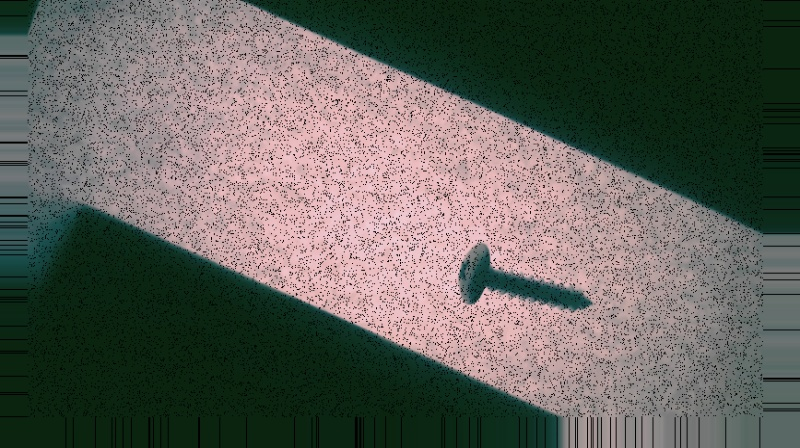S003: (454, 238, 596, 315)
